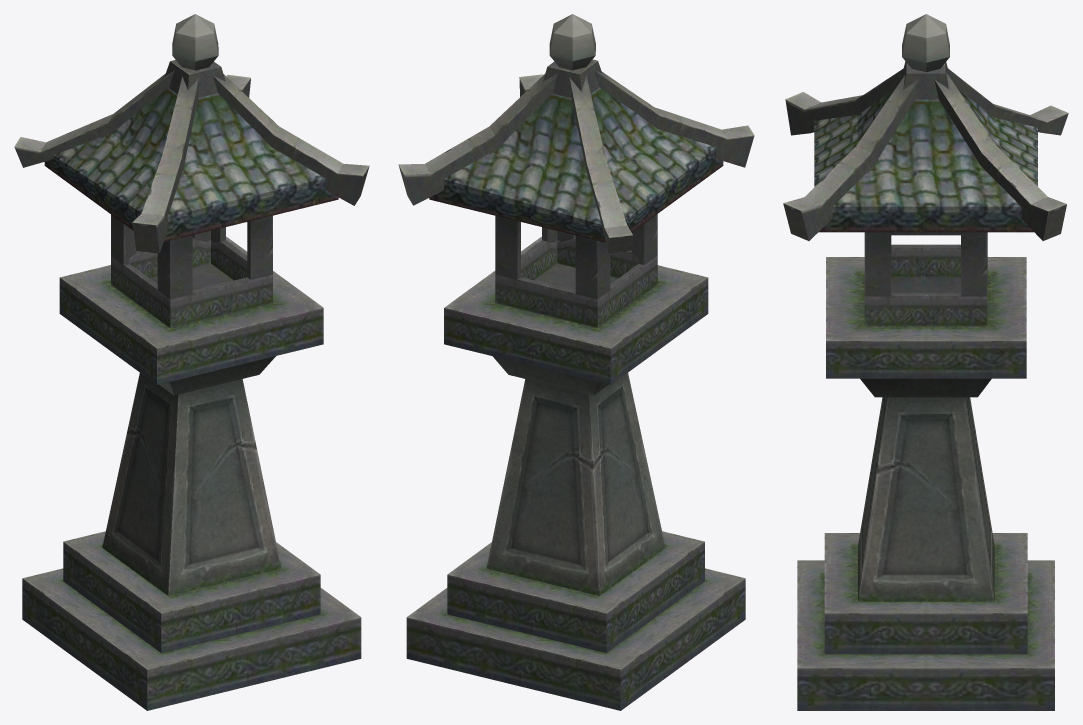
The model's file is SC001Wwujian_46.FBX.
3 renders of one model, left to right at view 1: azimuth 30°, elevation 25°; view 2: azimuth 150°, elevation 25°; view 3: azimuth 270°, elevation 25°, orthographic. The views are drawn at different scales.
Parts seen in each view (by area): view 1: SC001Wwujian_46; view 2: SC001Wwujian_46; view 3: SC001Wwujian_46.
Part boxes in pixels (left/top/right/bottom): SC001Wwujian_46: left=14, top=14, right=369, bottom=710; SC001Wwujian_46: left=398, top=14, right=754, bottom=710; SC001Wwujian_46: left=783, top=14, right=1068, bottom=710.
Size of the model in its own units: 0.6241 by 1.57 by 0.6297.
